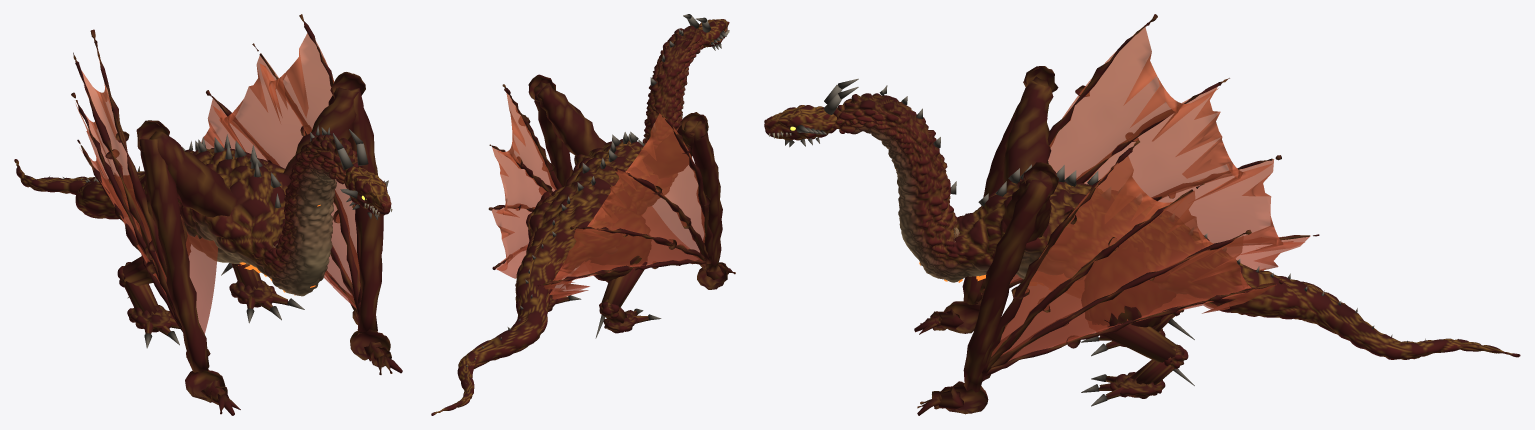
File: dragon.glb
The picture shows the model from 3 angles, left to right: view 1: azimuth 30°, elevation 25°; view 2: azimuth 150°, elevation 25°; view 3: azimuth 270°, elevation 25°; orthographic projection. The views are drawn at different scales.
Parts seen in each view (by area): view 1: DragonBody, DragonWingArmL, DragonWingMembraneR, DragonWingArmR, DragonWingMembraneL, DragonHead, DragonSpineSpikes, DragonFootR, DragonFootL, DragonMetaL, DragonShinL, DragonMetaR; view 2: DragonBody, DragonWingMembraneL, DragonWingArmL, DragonWingArmR, DragonWingMembraneR, DragonThighL, DragonSpineSpikes, DragonShinL, DragonHead, DragonFootL; view 3: DragonBody, DragonWingMembraneL, DragonWingMembraneR, DragonWingArmR, DragonWingArmL, DragonThighR, DragonHead, DragonShinR, DragonSpineSpikes, DragonFootR.
Boxes of the visible parts, bbox=[...] form: DragonBody: bbox=[14, 134, 361, 296]; DragonWingArmL: bbox=[71, 29, 240, 415]; DragonWingMembraneR: bbox=[201, 33, 360, 308]; DragonWingArmR: bbox=[206, 14, 402, 374]; DragonWingMembraneL: bbox=[75, 53, 218, 333]; DragonHead: bbox=[344, 166, 391, 215]; DragonSpineSpikes: bbox=[29, 125, 330, 208]; DragonFootR: bbox=[229, 280, 276, 307]; DragonFootL: bbox=[127, 305, 172, 332]; DragonMetaL: bbox=[124, 276, 159, 314]; DragonShinL: bbox=[122, 256, 153, 285]; DragonMetaR: bbox=[231, 263, 261, 289]; DragonBody: bbox=[431, 25, 705, 415]; DragonWingMembraneL: bbox=[543, 113, 705, 299]; DragonWingArmL: bbox=[537, 106, 735, 289]; DragonWingArmR: bbox=[488, 74, 606, 269]; DragonWingMembraneR: bbox=[491, 92, 556, 278]; DragonThighL: bbox=[591, 209, 651, 282]; DragonSpineSpikes: bbox=[465, 29, 683, 393]; DragonShinL: bbox=[601, 261, 647, 308]; DragonHead: bbox=[697, 19, 729, 47]; DragonFootL: bbox=[603, 310, 638, 333]; DragonBody: bbox=[833, 93, 1520, 359]; DragonWingMembraneL: bbox=[983, 27, 1310, 290]; DragonWingMembraneR: bbox=[991, 156, 1276, 368]; DragonWingArmR: bbox=[917, 140, 1282, 415]; DragonWingArmL: bbox=[914, 14, 1319, 334]; DragonThighR: bbox=[1081, 244, 1175, 327]; DragonHead: bbox=[764, 105, 836, 140]; DragonShinR: bbox=[1101, 322, 1177, 362]; DragonSpineSpikes: bbox=[879, 85, 1458, 342]; DragonFootR: bbox=[1110, 372, 1165, 398].
Bounding box in the file's own units: 5.33 × 6.86 × 15.26.
